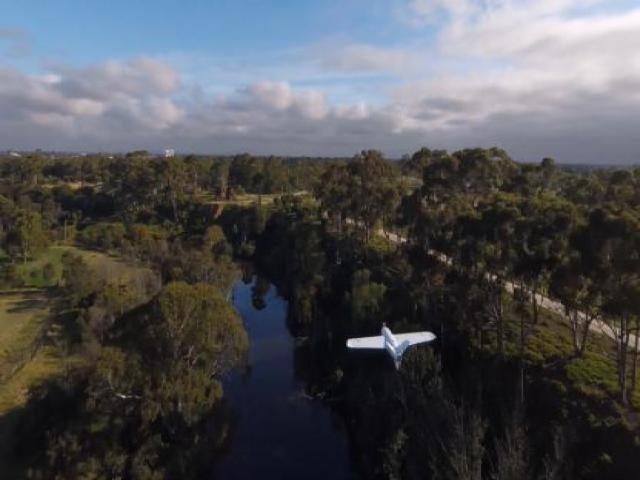uav: (344, 320, 438, 372)
